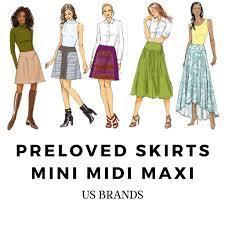skirt: (178, 42, 219, 118), (127, 41, 174, 100), (51, 44, 83, 82), (89, 44, 121, 81), (12, 51, 46, 84)
